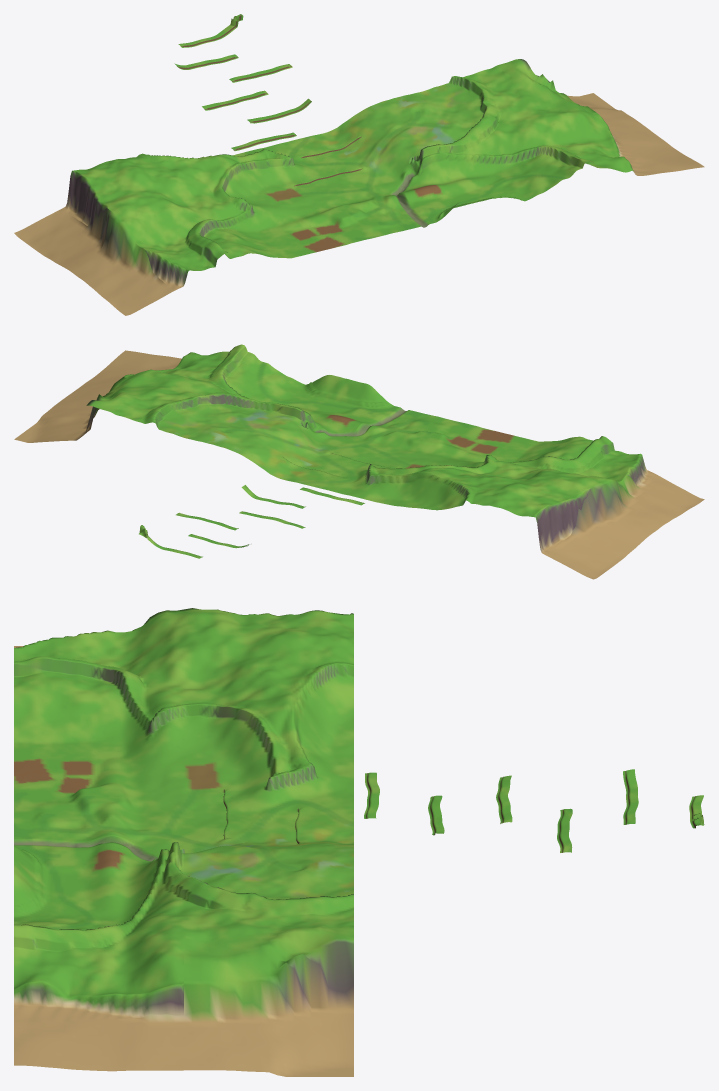
The model's file is terrain.glb.
3 views of the same model, one above another, from view 1: azimuth 30°, elevation 25°; view 2: azimuth 150°, elevation 25°; view 3: azimuth 270°, elevation 25° (orthographic). The views are drawn at different scales.
Visible parts, largest first — view 1: terrain_3_4, terrain_2_4, terrain_1_4, terrain_4_4, ledges; view 2: terrain_2_4, terrain_1_4, terrain_3_4, terrain_4_4, ledges; view 3: terrain_3_4, terrain_2_4, terrain_1_4, terrain_4_4, ledges.
Boxes of the visible parts, <box> form: terrain_3_4: <box>352,59,656,207</box>; terrain_2_4: <box>172,117,458,258</box>; terrain_1_4: <box>14,153,269,315</box>; terrain_4_4: <box>567,93,704,173</box>; ledges: <box>174,14,362,186</box>; terrain_2_4: <box>256,384,559,510</box>; terrain_1_4: <box>449,436,704,579</box>; terrain_3_4: <box>63,344,366,463</box>; terrain_4_4: <box>14,350,173,442</box>; ledges: <box>139,453,393,558</box>; terrain_3_4: <box>14,842,353,1025</box>; terrain_2_4: <box>14,674,353,870</box>; terrain_1_4: <box>14,608,353,718</box>; terrain_4_4: <box>14,1010,353,1076</box>; ledges: <box>221,769,704,852</box>.
Size of the model in its own units: 540 by 49.18 by 366.
